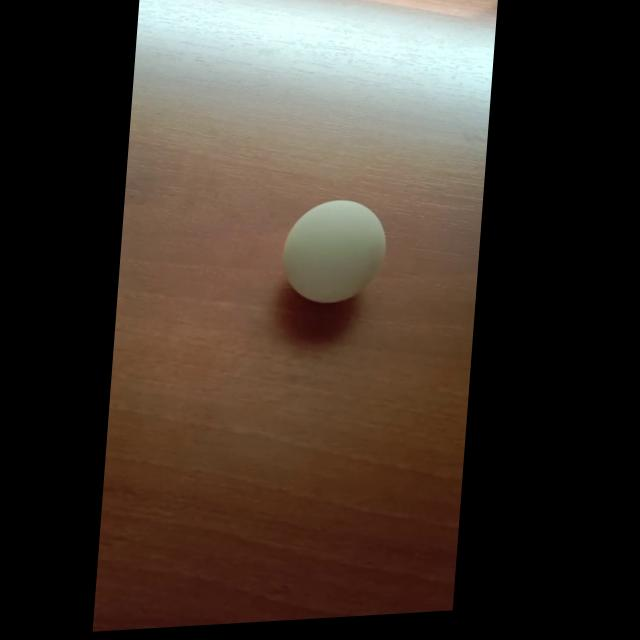white ball: (278, 196, 390, 306)
